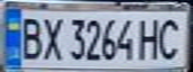2: (81, 16, 103, 62)
3: (63, 15, 87, 62)
4: (115, 15, 139, 61)
6: (100, 16, 121, 62)
B: (15, 14, 45, 61)
C: (154, 15, 187, 61)
H: (136, 15, 163, 61)
X: (39, 14, 66, 61)
